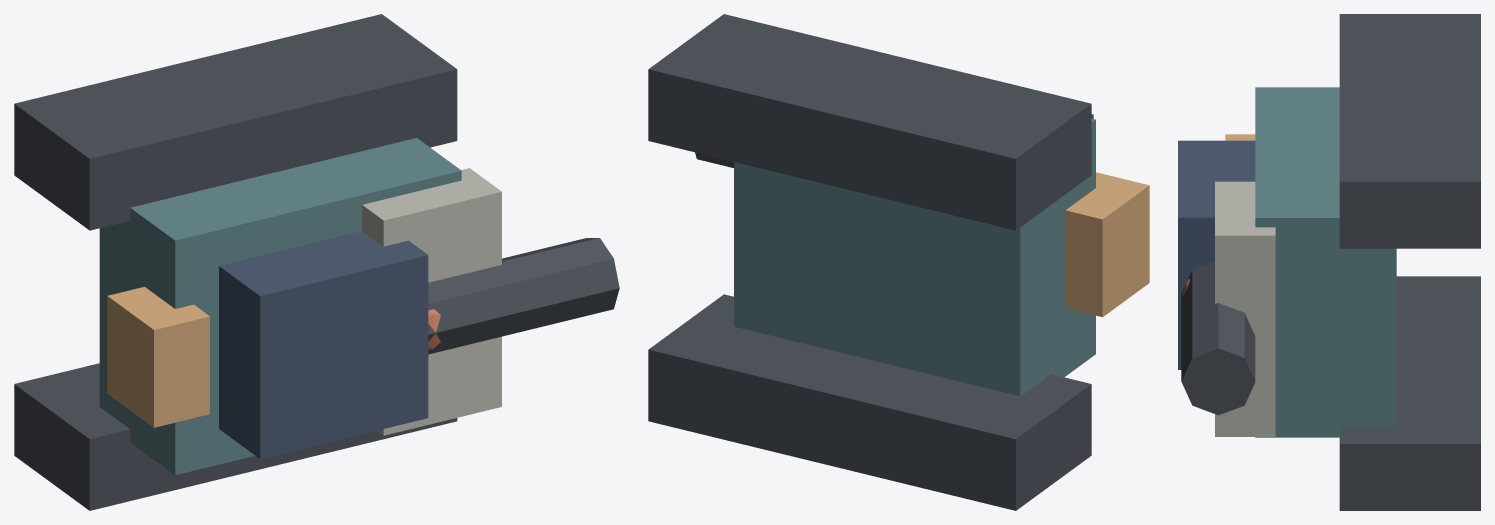
File: tank.glb
3 renders of one model, left to right at view 1: azimuth 30°, elevation 25°; view 2: azimuth 150°, elevation 25°; view 3: azimuth 270°, elevation 25°, orthographic. The views are drawn at different scales.
Visible parts, largest first — view 1: track_left, turret_head, hull, track_right, front_armor, cannon, weakpoint; view 2: track_left, hull, track_right, weakpoint; view 3: hull, track_left, track_right, front_armor, cannon, turret_head.
Part boxes in pixels (x1,y1,x2,y2): track_left: (14, 14, 457, 230); turret_head: (219, 231, 428, 458); hull: (99, 138, 461, 475); track_right: (14, 363, 457, 510); front_armor: (362, 168, 501, 435); cannon: (428, 238, 619, 354); weakpoint: (107, 287, 209, 427); track_left: (648, 14, 1091, 230); hull: (734, 118, 1095, 396); track_right: (648, 294, 1091, 510); weakpoint: (1065, 172, 1149, 317); hull: (1255, 87, 1396, 437); track_left: (1339, 14, 1480, 248); track_right: (1339, 276, 1480, 510); front_armor: (1215, 181, 1275, 436); cannon: (1181, 261, 1255, 415); turret_head: (1178, 140, 1255, 369).
Bounding box in the file's own units: 1.43 × 1.08 × 0.9.
